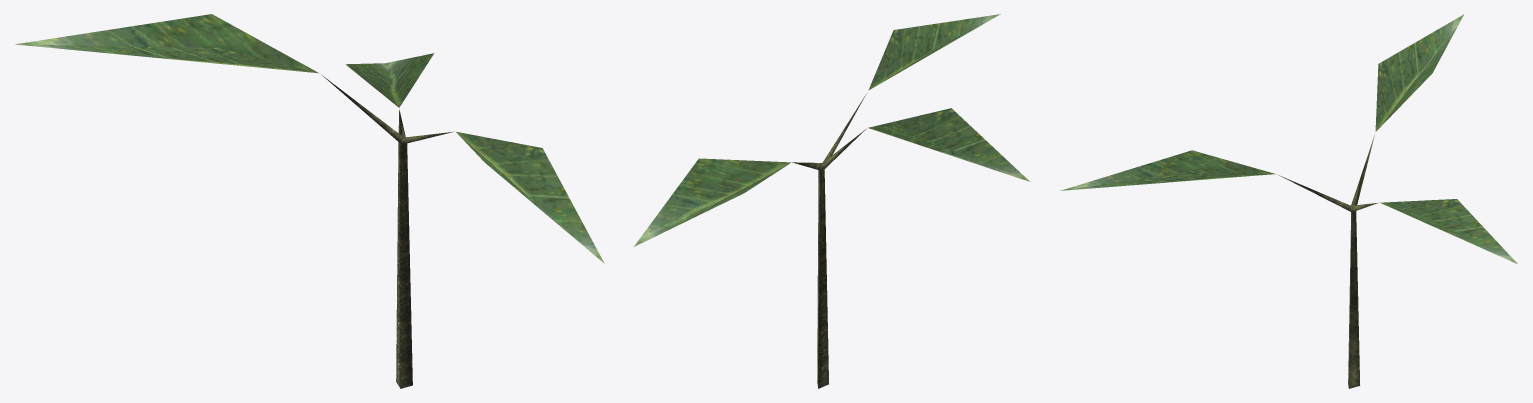
The model's file is leaf_smallflora_a1_l2.fbx.
The picture shows the model from 3 angles, left to right: view 1: azimuth 30°, elevation 25°; view 2: azimuth 150°, elevation 25°; view 3: azimuth 270°, elevation 25°; orthographic projection. The views are drawn at different scales.
Parts seen in each view (by area): view 1: mesh_node; view 2: mesh_node; view 3: mesh_node.
Part boxes in pixels (x1,y1,x2,y2): mesh_node: (15, 14, 604, 388); mesh_node: (634, 14, 1029, 388); mesh_node: (1060, 14, 1517, 388).
Bounding box in the file's own units: 1.41 × 1.2 × 1.89.
Materials: 2 (2 with a texture image).
